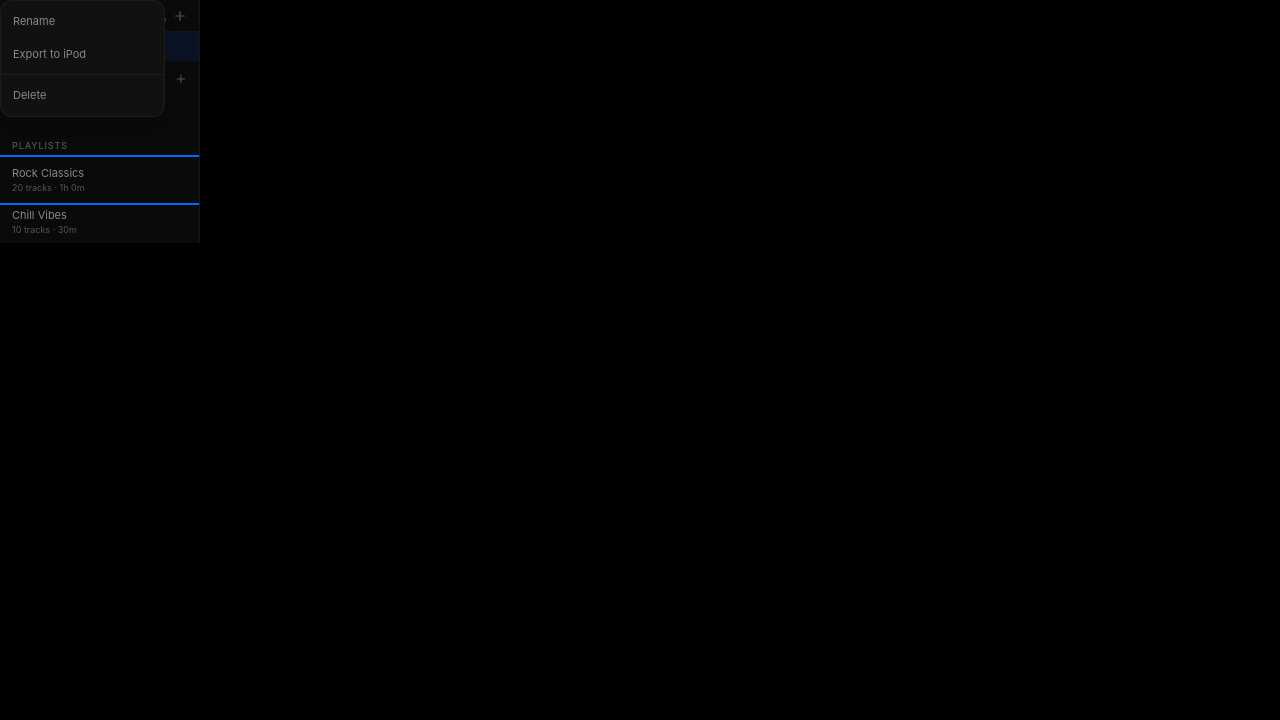
it: PlaylistSidebar › does not delete playlist when cancel is clicked
What coordinates should you click on to do the following:
click the button "Delete"
I would click on:
 (83, 95)
Its box is [1,79,164,112].
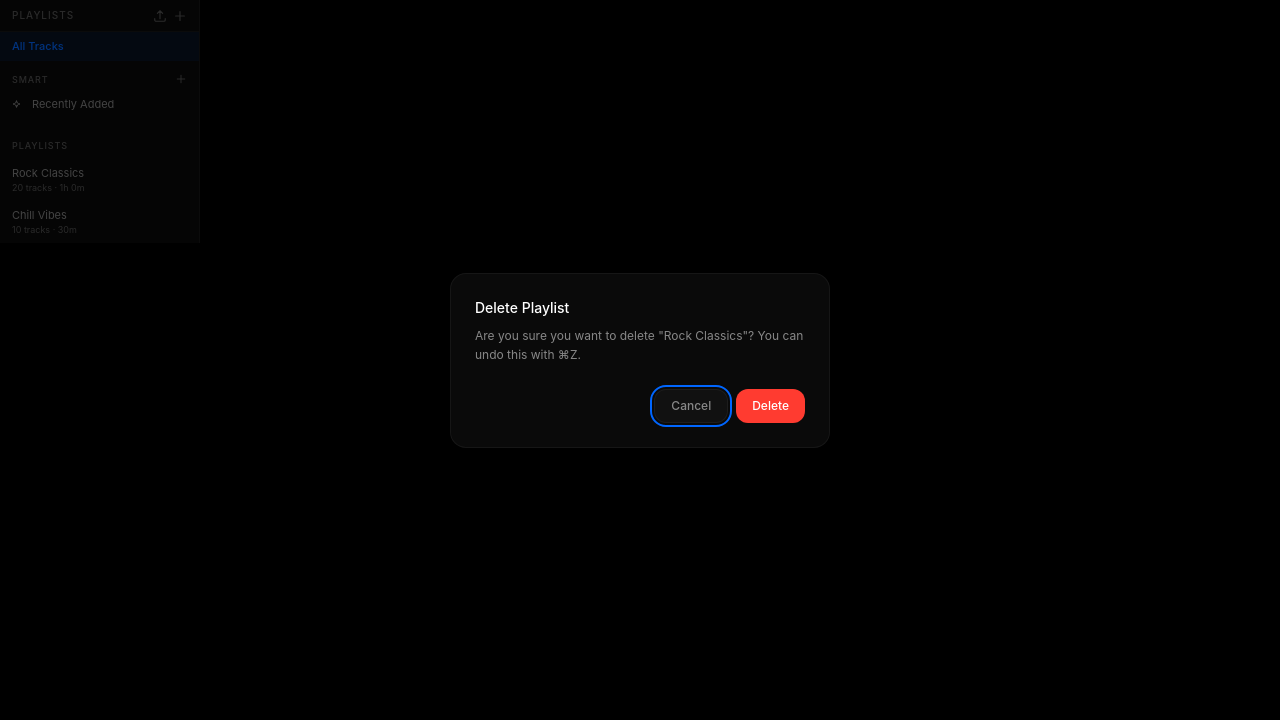
What coordinates should you click on to do the following:
click the button "Cancel"
I would click on:
 (691, 406)
Its box is [654,388,728,422].
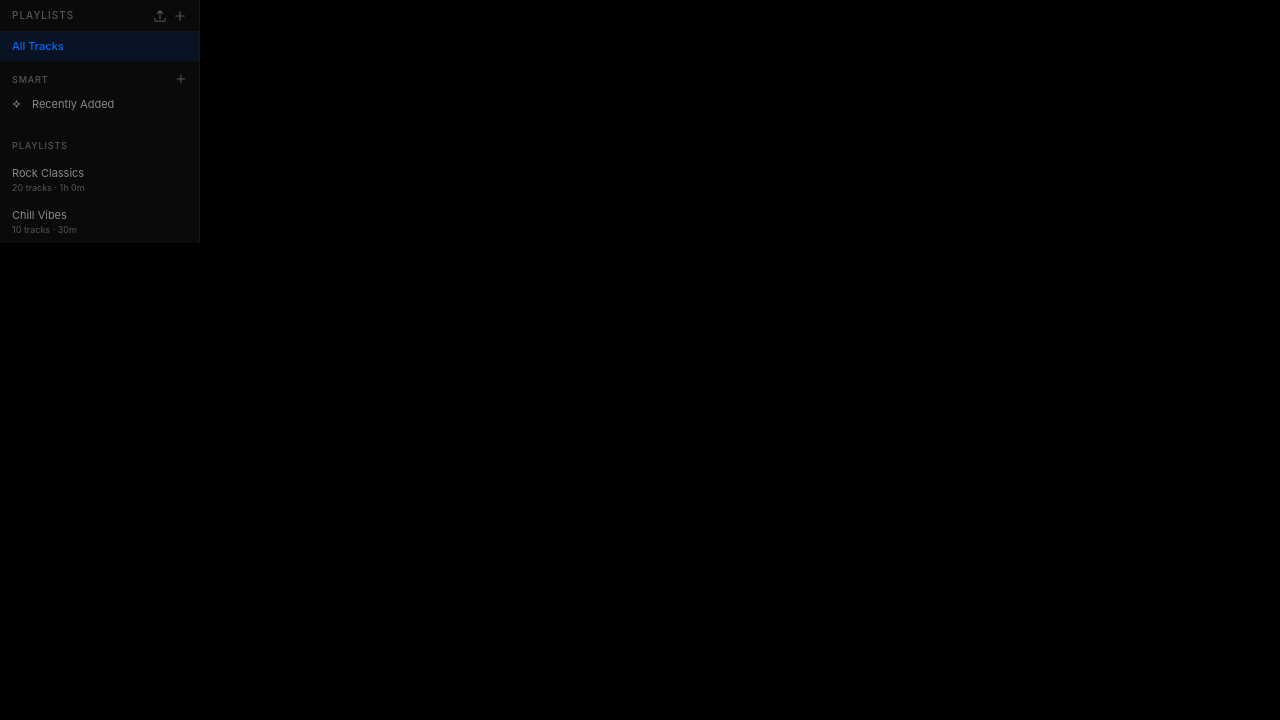
Expected: the text "Delete Playlist" is gone
